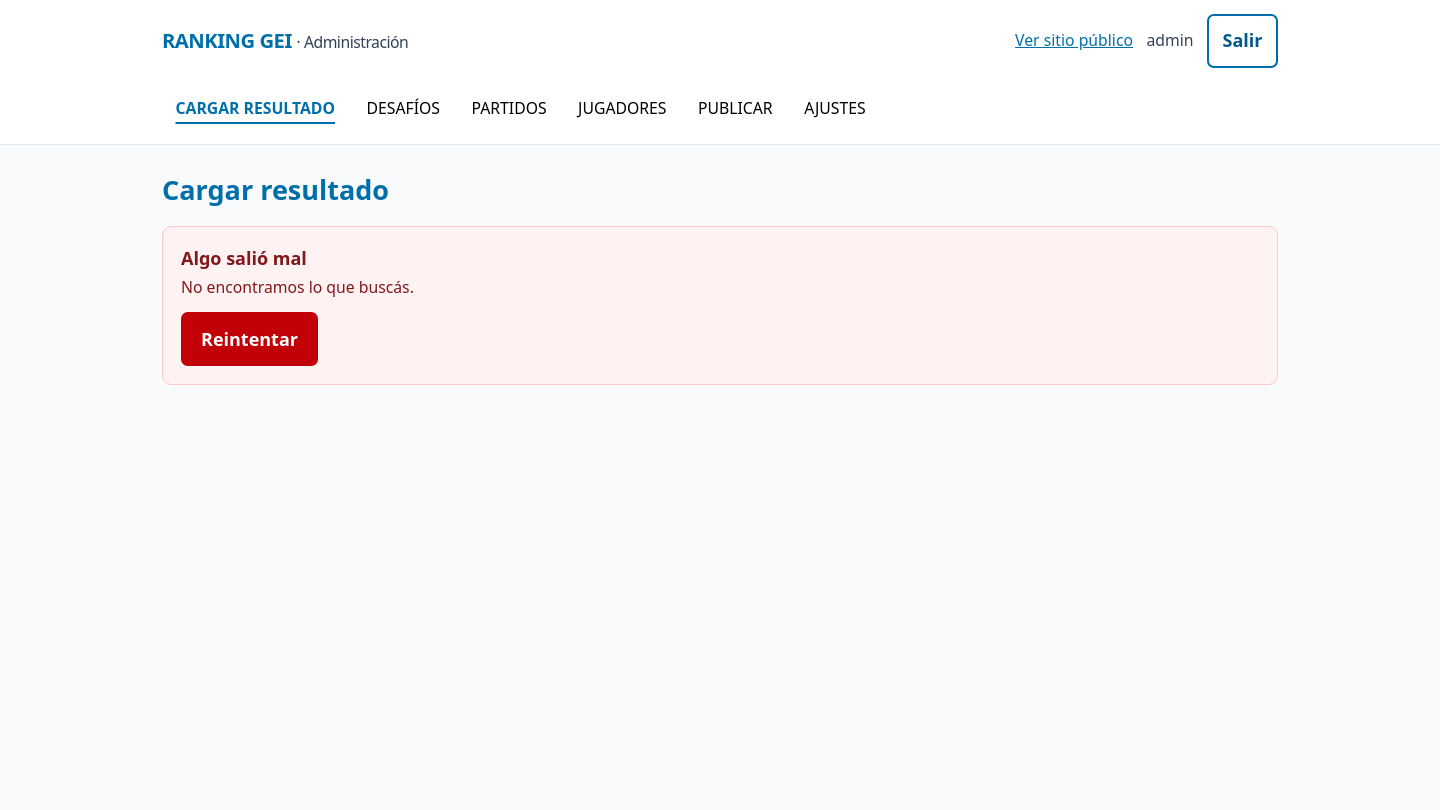
Login y acceso a la administración › Salir cierra la sesión y vuelve al login
Expected: the heading "Cargar resultado" is shown, x1=162 y1=171 x2=389 y2=208
What coordinates should you click on to do the following:
click the button "Salir"
I would click on:
 (1242, 40)
Its box is x1=1207 y1=14 x2=1278 y2=68.
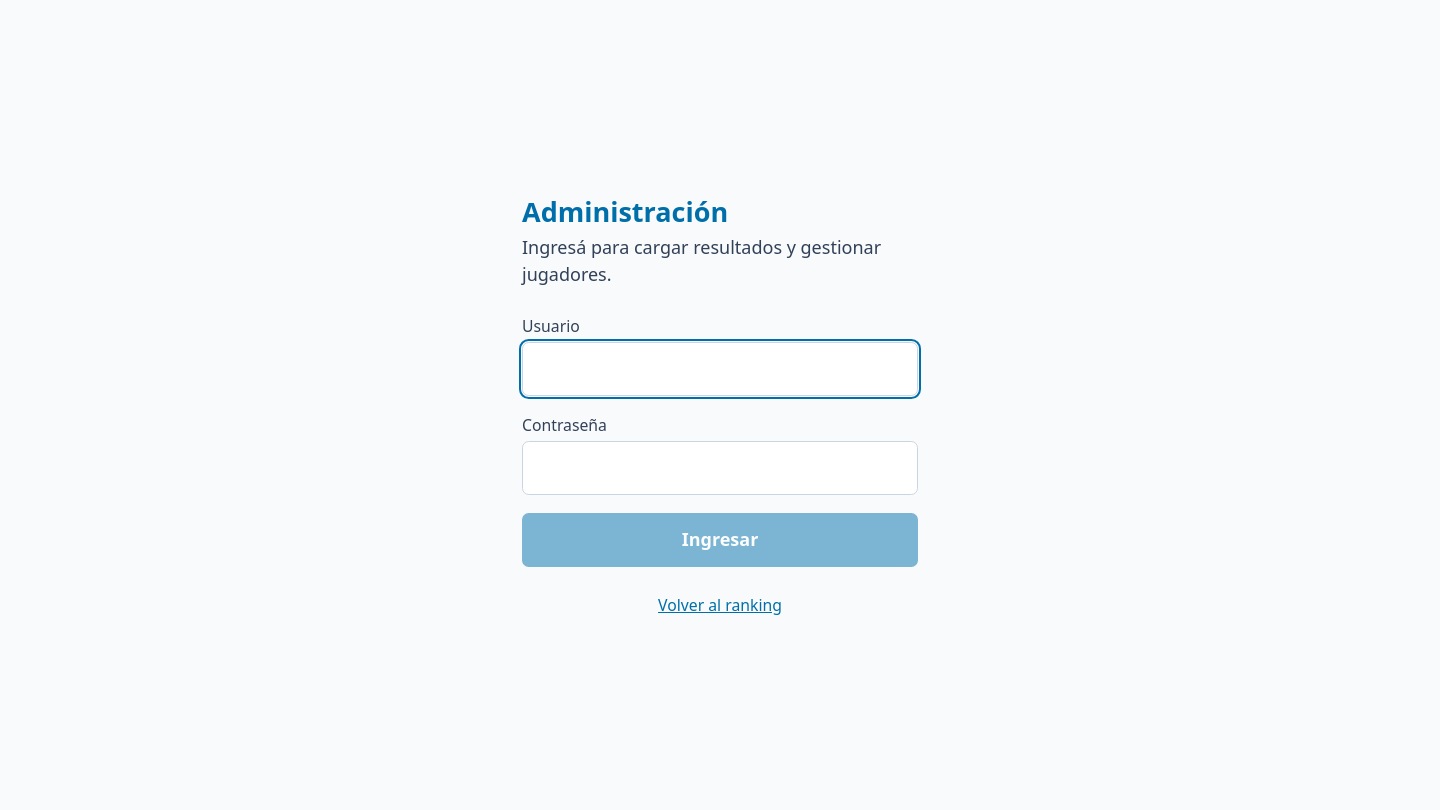
Now the field labelled "Usuario" is shown, box x1=522 y1=342 x2=918 y2=396
